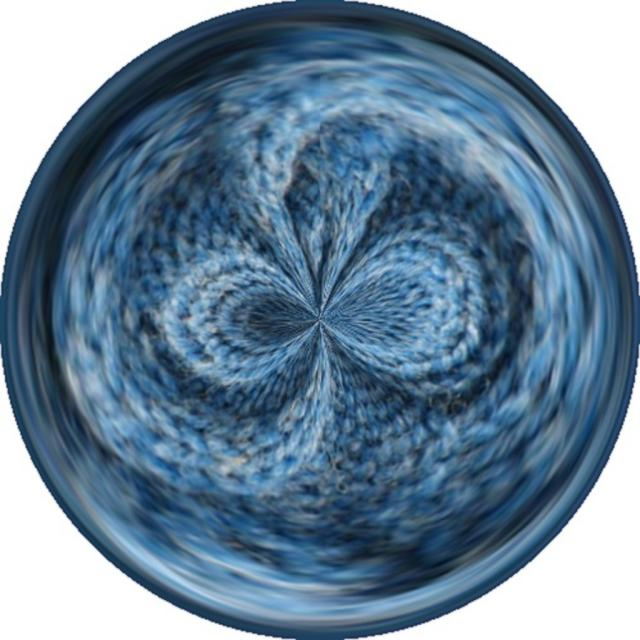non-organic waste: (10, 5, 640, 639)
